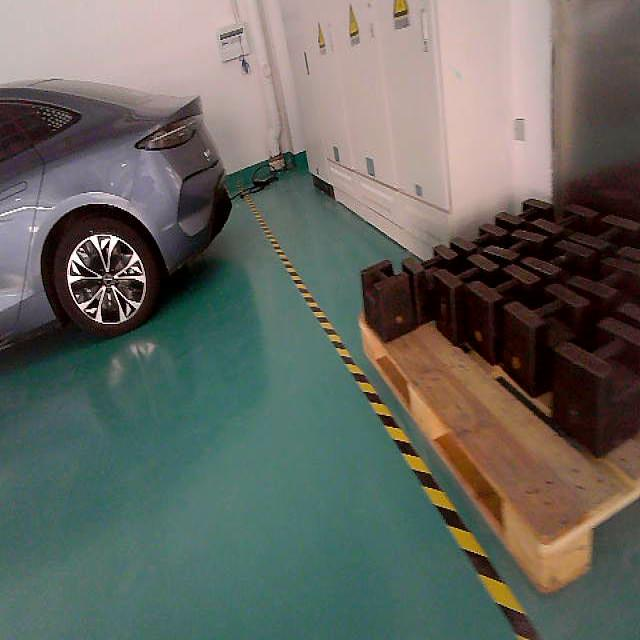euro: (360, 247, 639, 591)
